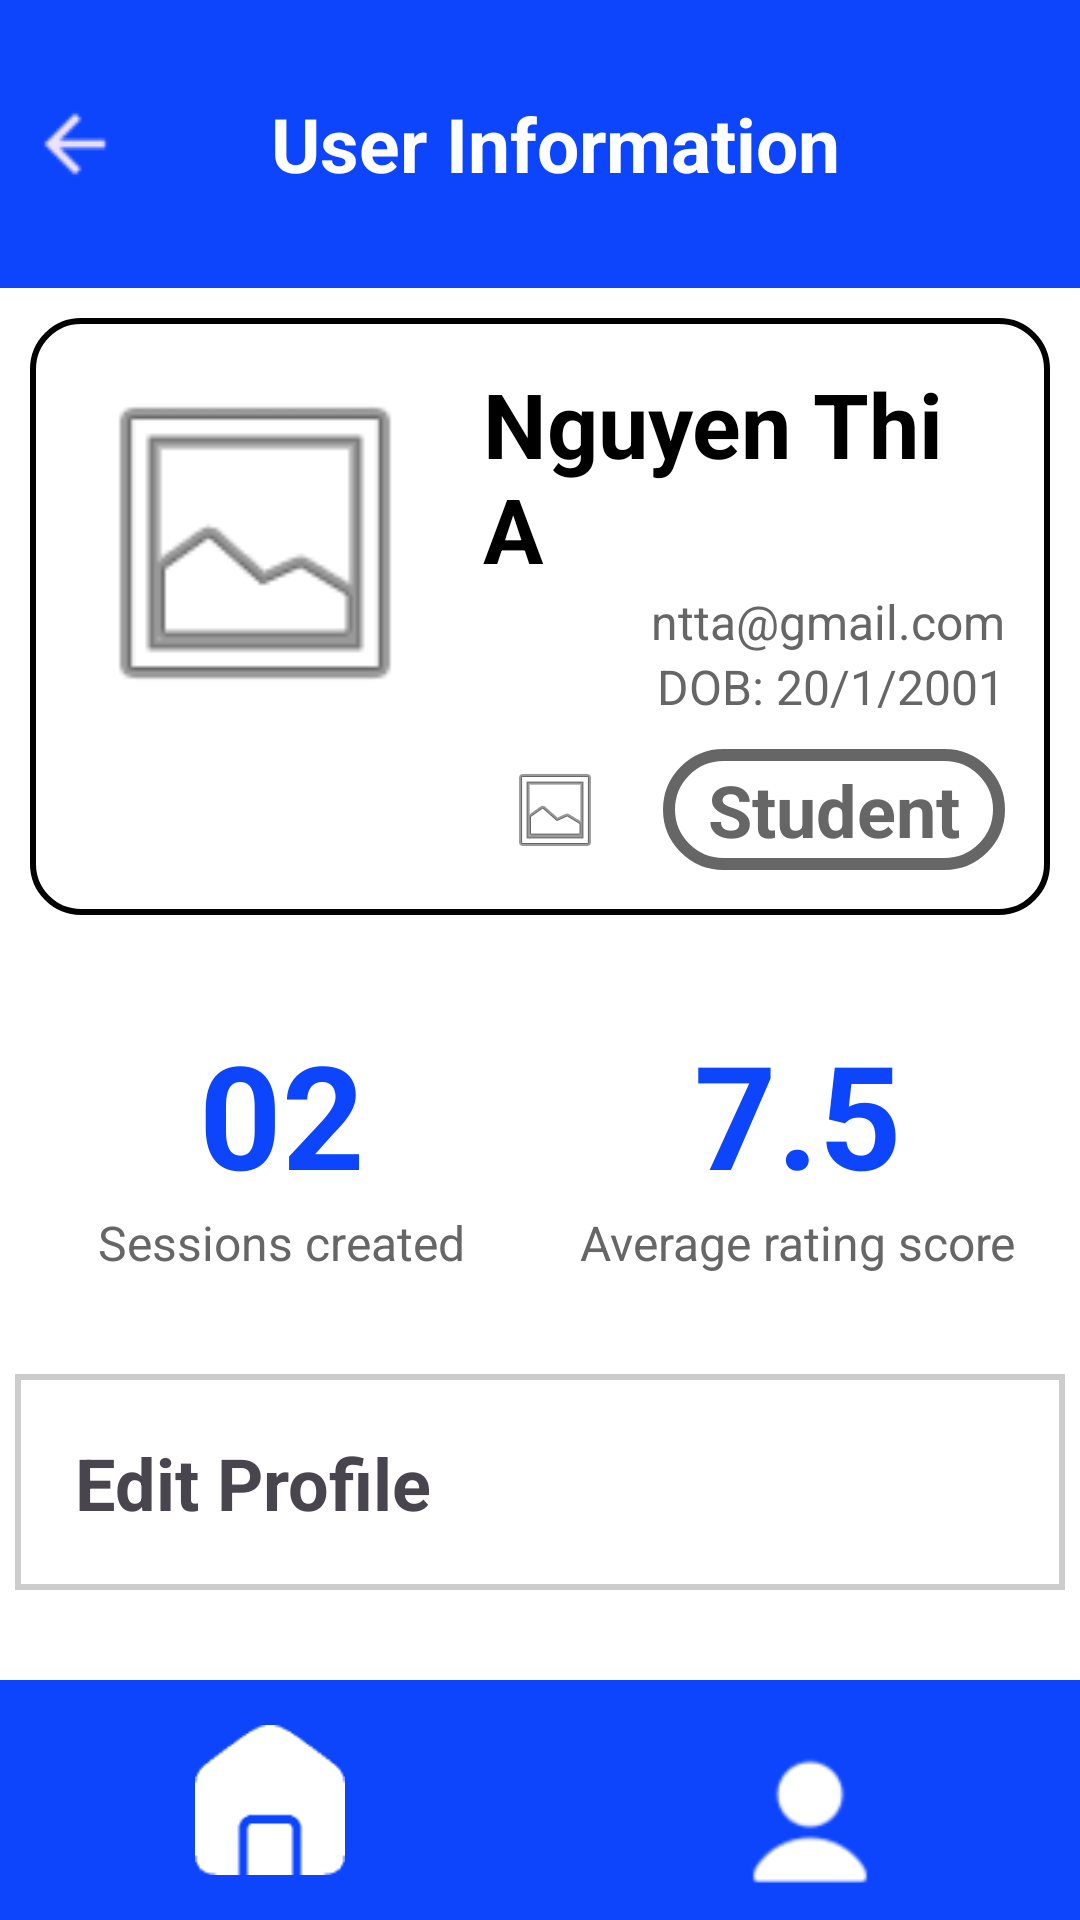

Named icons in this screenshot (1080x1920) and their bounding boxes, (x1, y1, x2, y2):
arrow back: (44, 113, 106, 175)
Home: (195, 1725, 345, 1875)
User: (752, 1760, 868, 1883)
